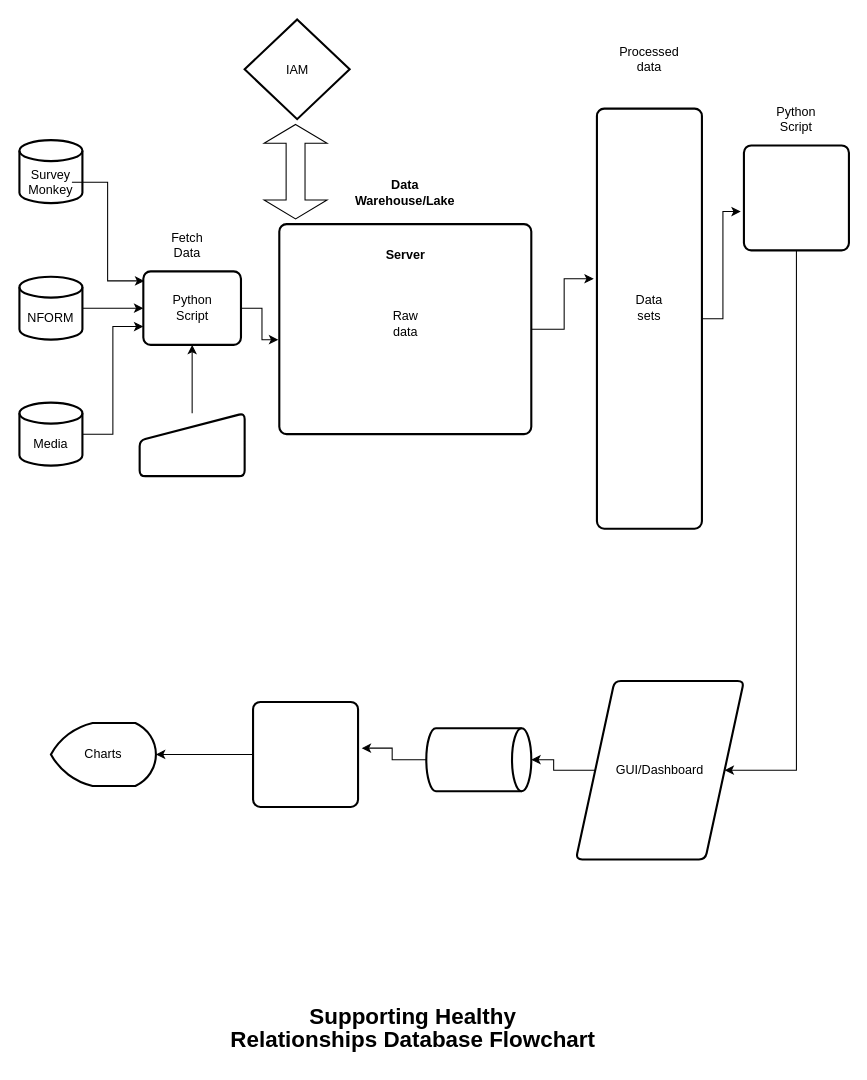
Some shapes in this 867 by 1080 pixel diagram are drawn without their labels. The centre of each missing label's shape, as x and y in pixels:
Convert Files to EXCEL: the point at 478,759
Generate reports: the point at 795,197
J Drive data: the point at 191,444
Reports: the point at 305,753
